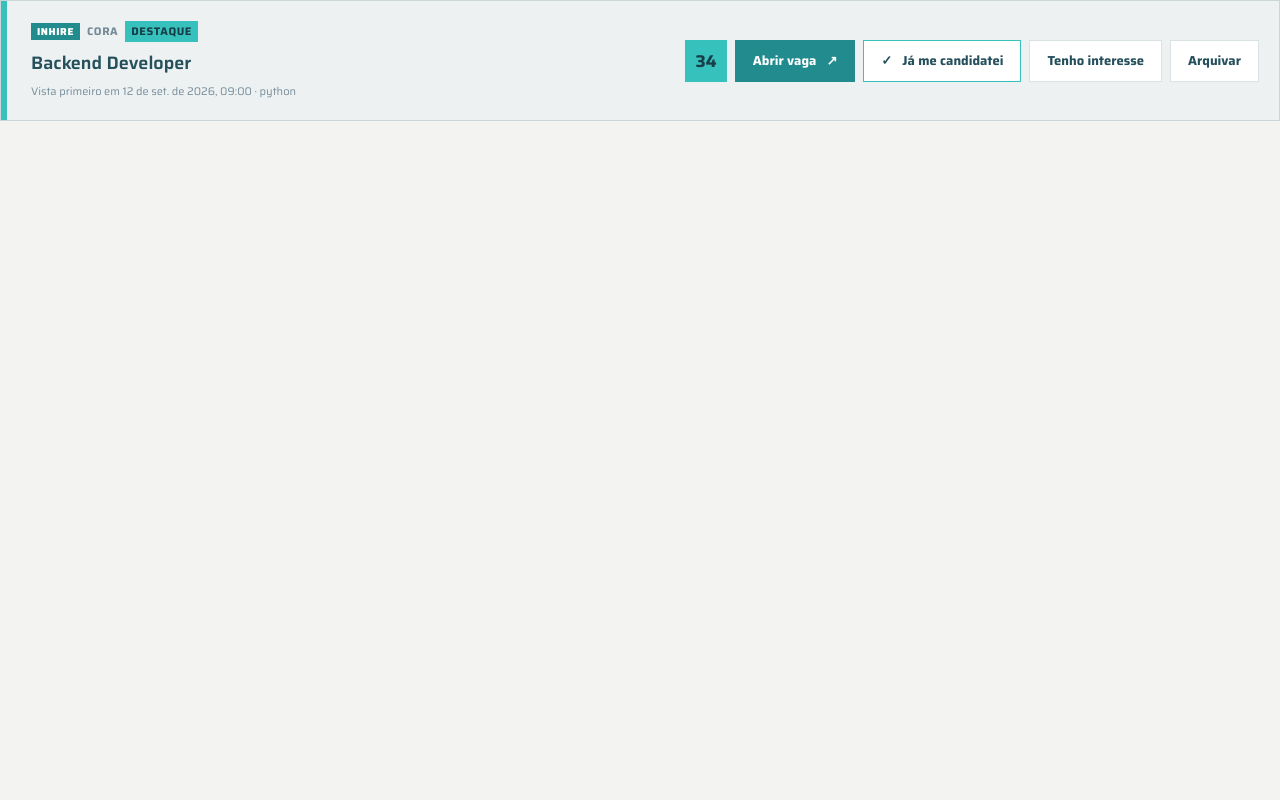
Scenario: job row actions › shows an error and keeps the modal open when archiving fails
The width and height of the screenshot is (1280, 800).
Click the button "Arquivar" at (1214, 60), box [1170,40,1259,82]
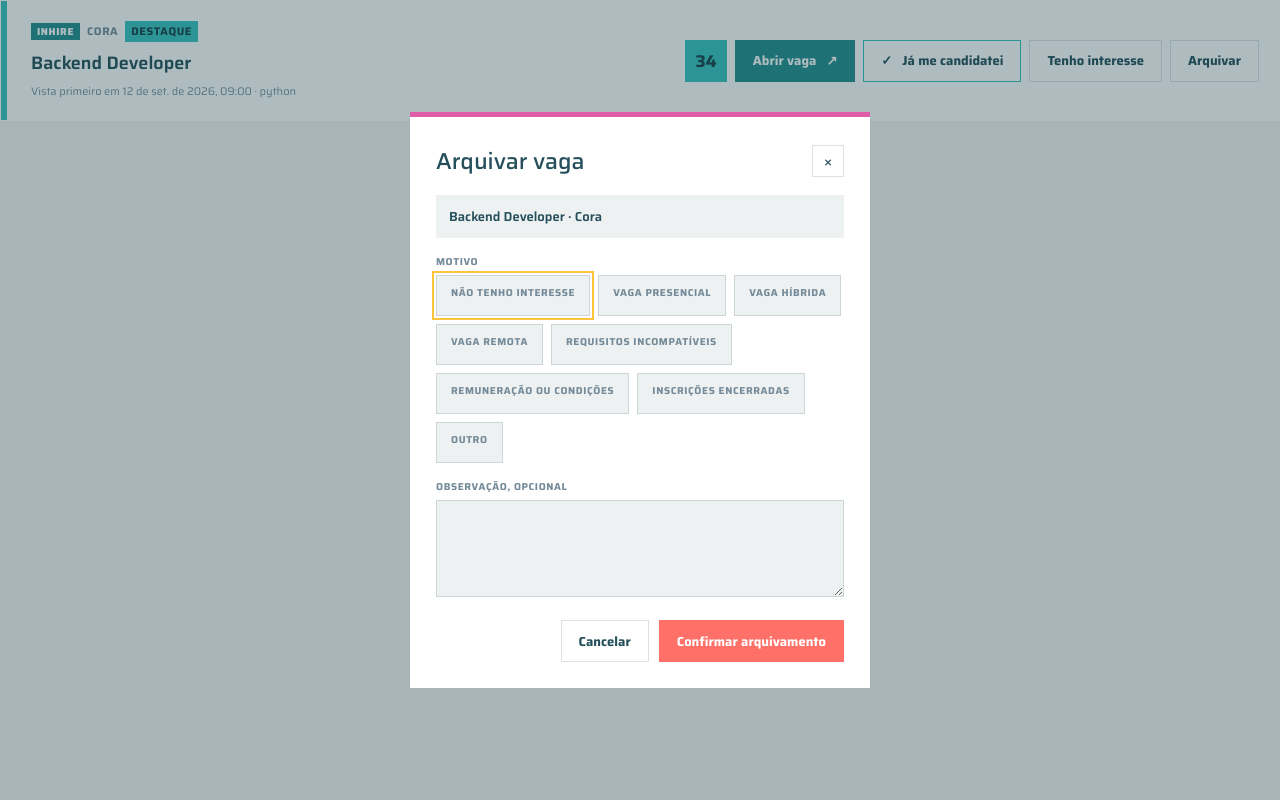
Click the radio button labelled "Outro" at (469, 442), box [436,422,503,463]
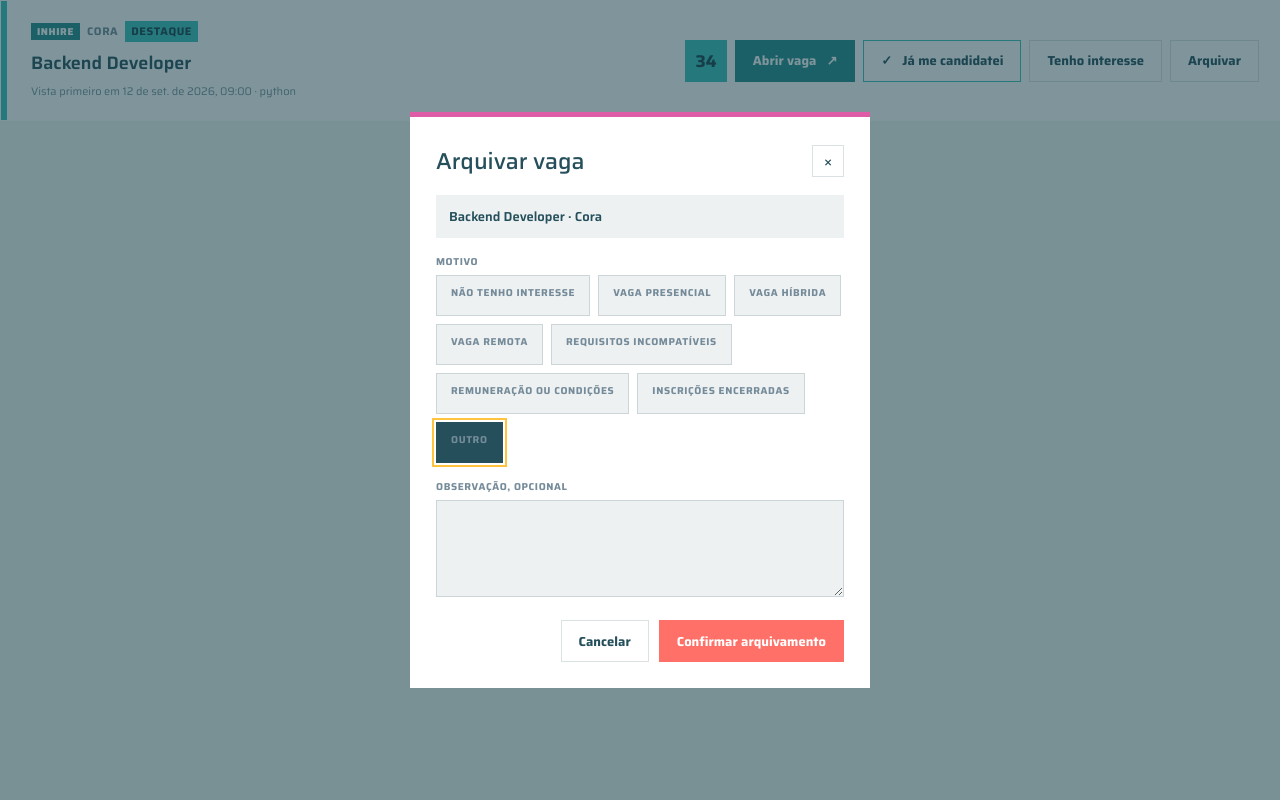
Click the button "Confirmar arquivamento" at (751, 641), box [659,620,844,662]
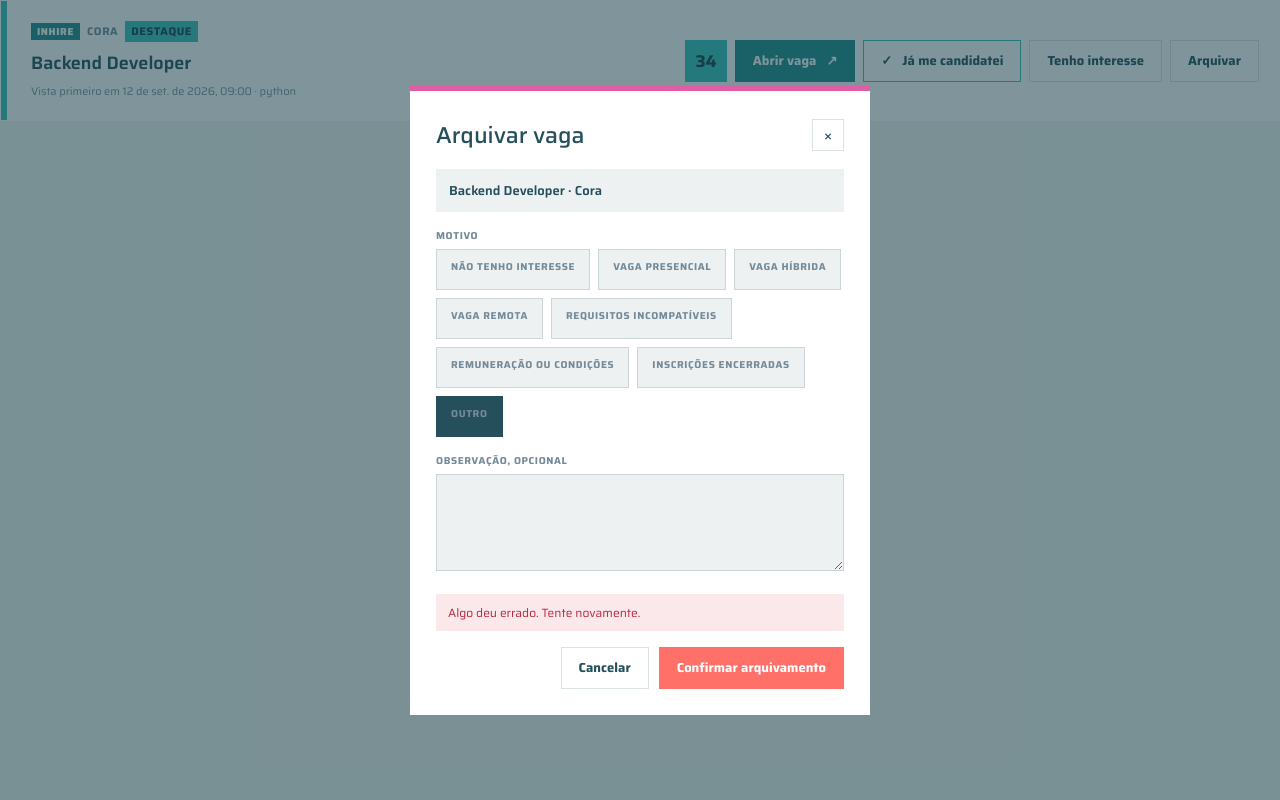
Expected: the button "Backend Developer" is shown, [31,49,191,77]
Expected: the button "Confirmar arquivamento" is enabled, [659,646,844,688]
Expected: the text "Algo deu errado. Tente novamente." is shown, [436,594,844,630]
